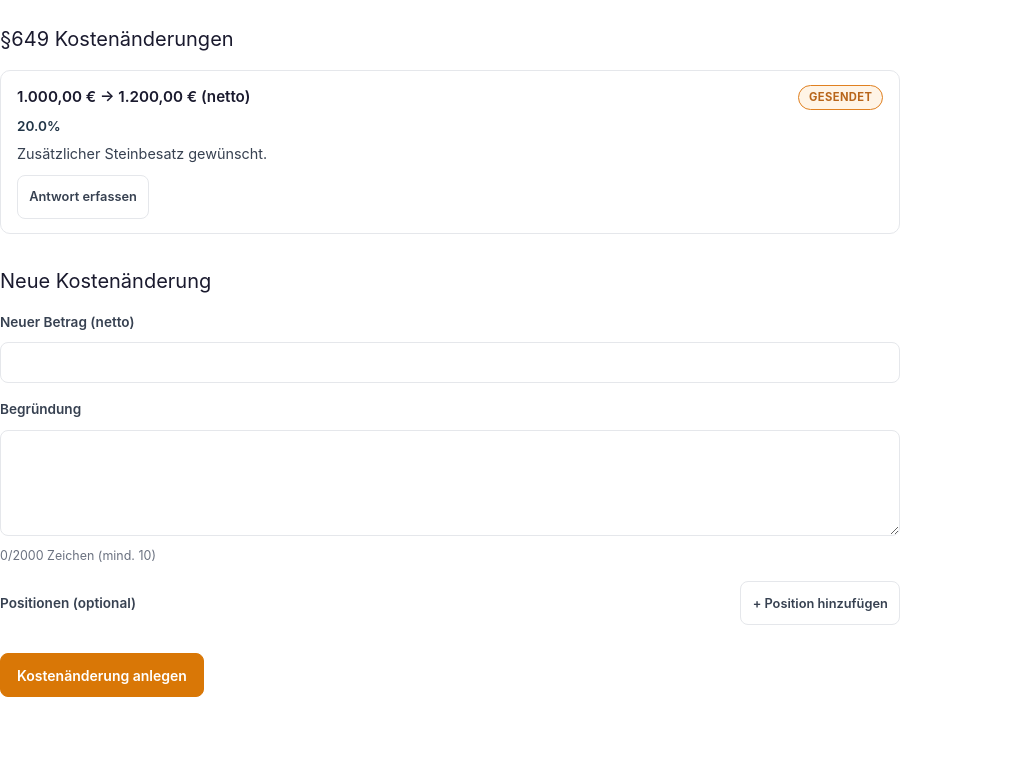
Test: CostChangeSection › closes the record-response modal when Escape is pressed
Click the button "Antwort erfassen" at (83, 197), box [17, 175, 149, 219]
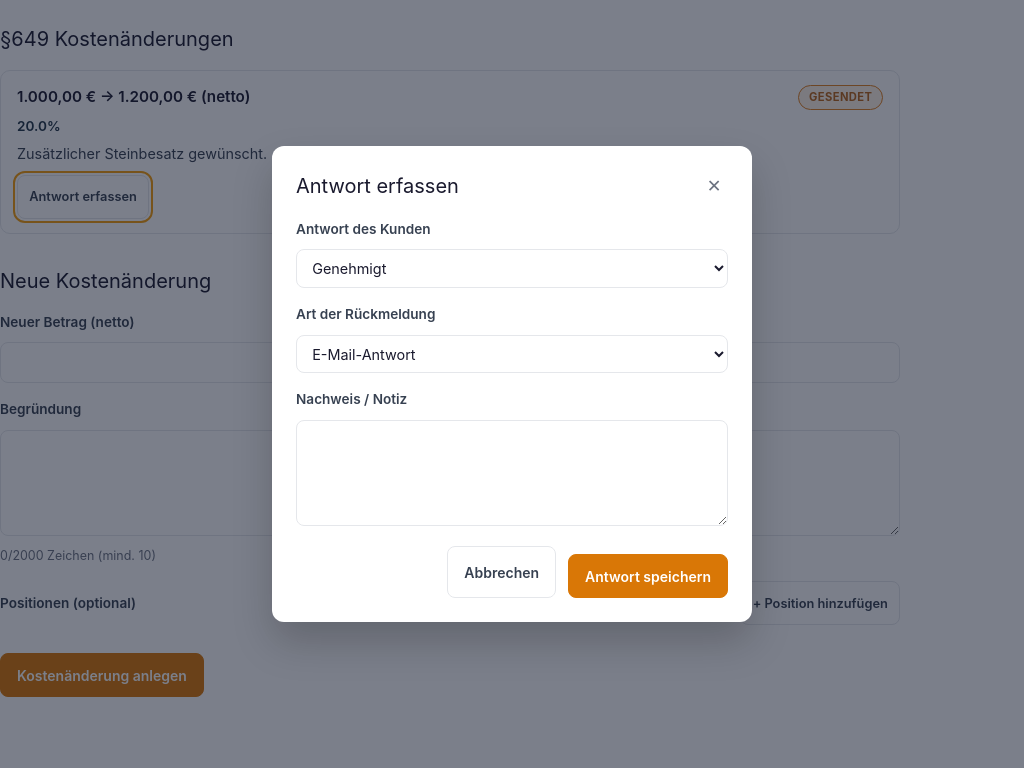
Press Escape in the dialog, box [272, 146, 752, 622]
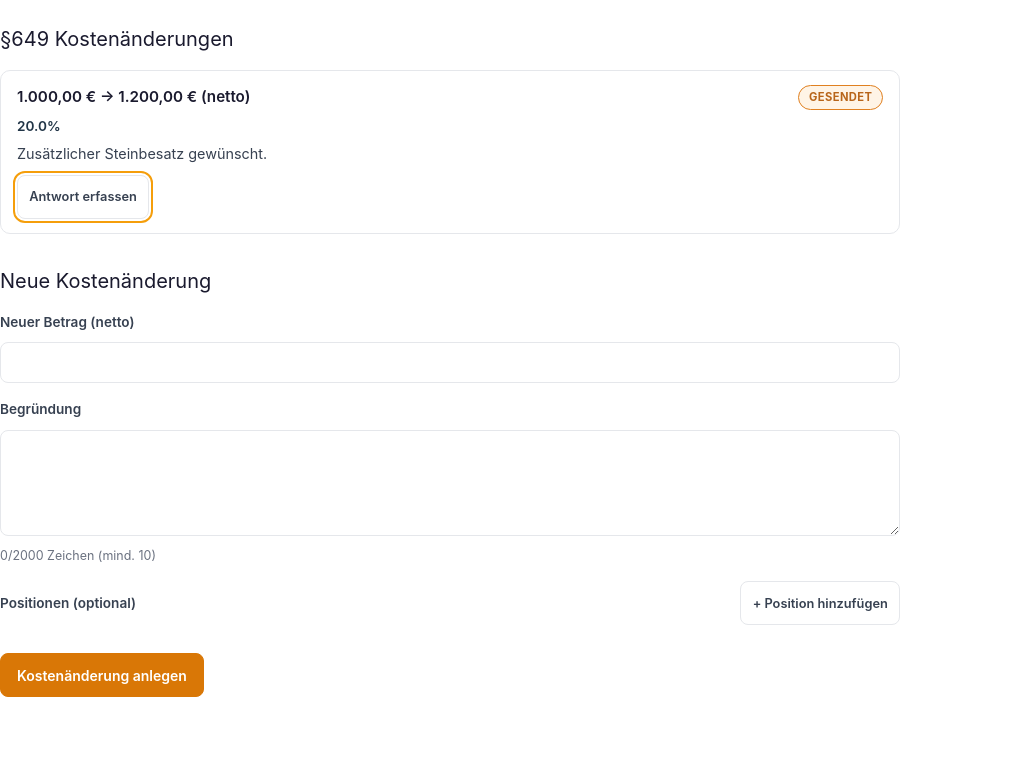
Expected: the dialog is gone
